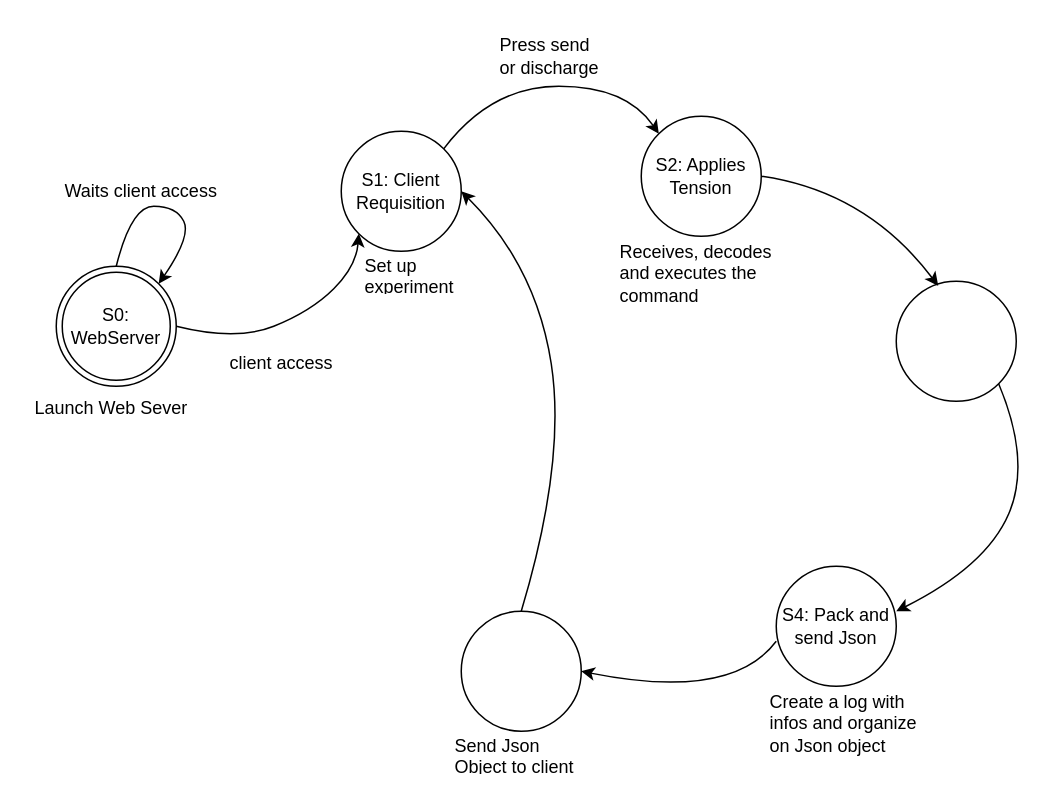
This 1044x801 diagram has some shape labels left out. The shapes that lost their labels are listed below. From the top down, each one's box as (x1, y1, x2, y2) in pixels, then its label:
(895, 280, 1016, 401): S3: Read Tension
(460, 610, 581, 731): S5: Send to client
